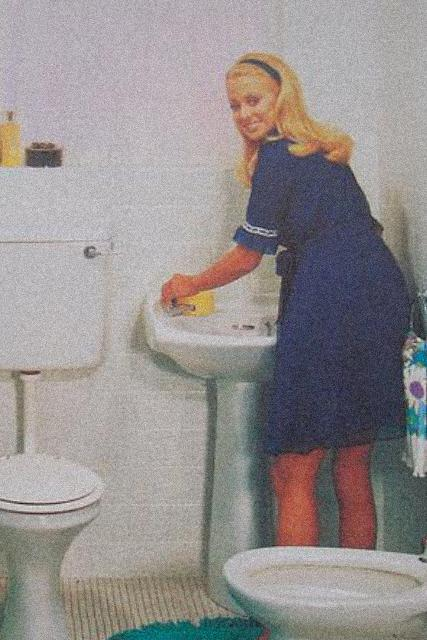Lavamanos: (137, 278, 376, 400)
